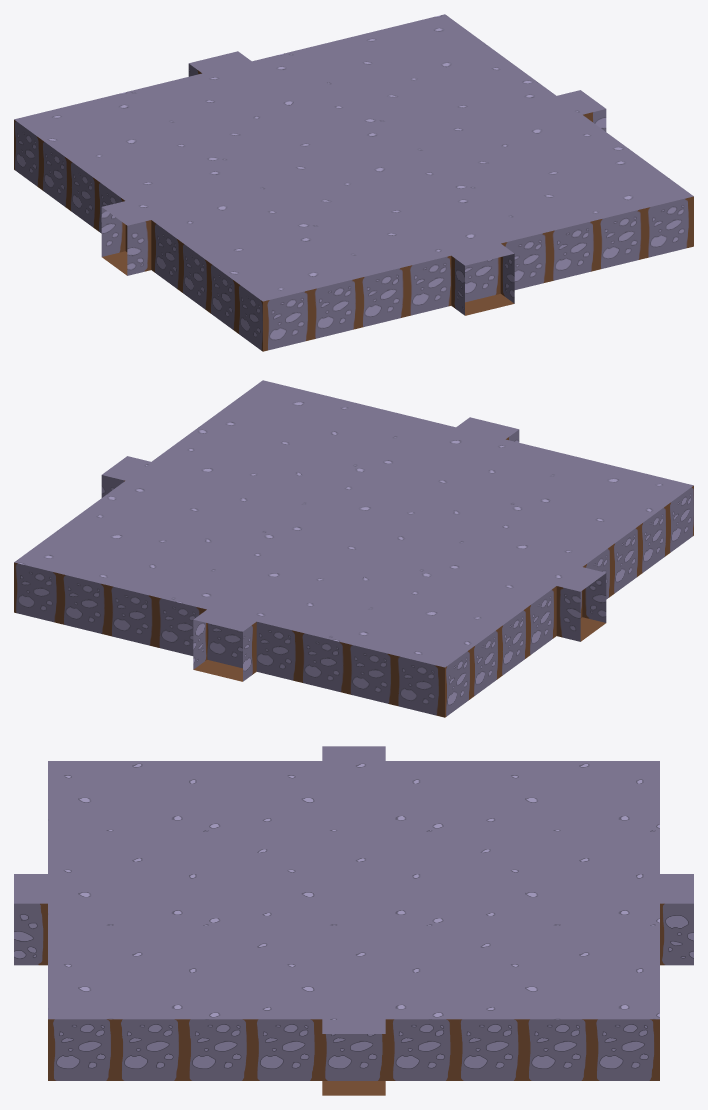
File: Room base.fbx
3 views of the same model, one above another, from view 1: azimuth 30°, elevation 25°; view 2: azimuth 150°, elevation 25°; view 3: azimuth 270°, elevation 25° (orthographic). The views are drawn at different scales.
Visible parts, largest first — view 1: Cube, Doorway 4; view 2: Cube, Doorway 2; view 3: Cube, Doorway 3.
Boxes of the visible parts, <box> form: Cube: <box>14,14,693,351</box>; Doorway 4: <box>465,257,500,302</box>; Cube: <box>14,380,693,717</box>; Doorway 2: <box>207,623,242,668</box>; Cube: <box>14,746,693,1095</box>; Doorway 3: <box>322,1034,385,1080</box>.
Bounding box in the file's own units: 1000 × 100 × 1000.
3 materials, 3 textured.
